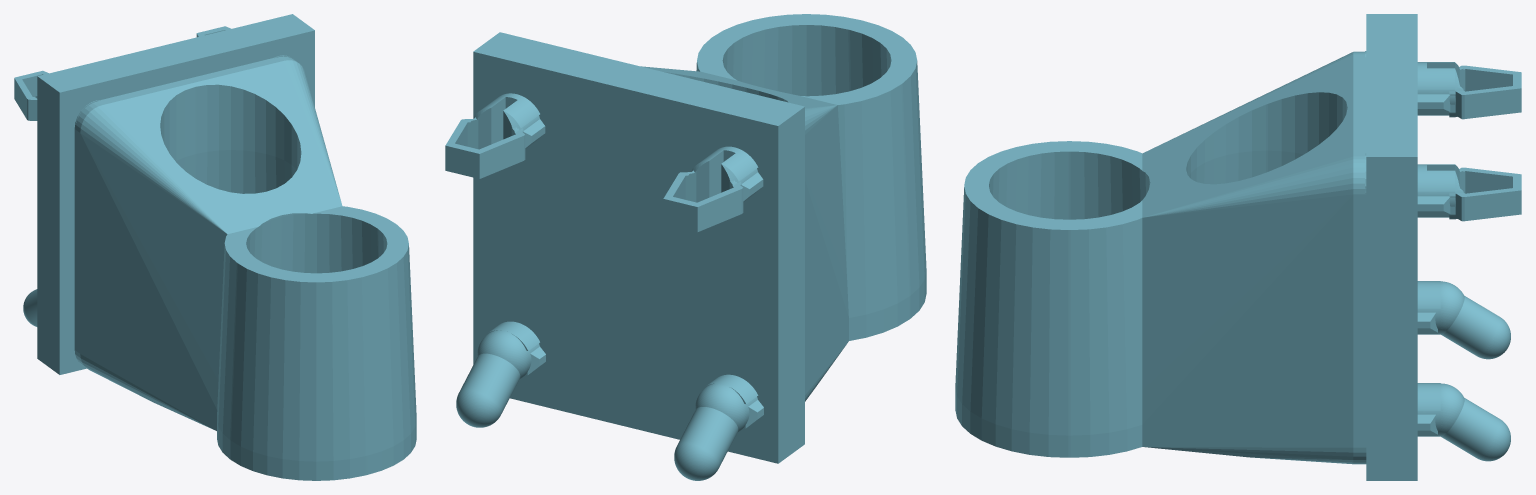
File: part-p05__current-mounts-flat-top-v2__fit-pf02c9-hoop5__print.glb
3 views of the same model, side by side, from view 1: azimuth 30°, elevation 25°; view 2: azimuth 150°, elevation 25°; view 3: azimuth 270°, elevation 25° (orthographic). The views are drawn at different scales.
Visible parts, largest first — view 1: print.stl; view 2: print.stl; view 3: print.stl.
Part boxes in pixels (box(x1,y1,x2,y2)): print.stl: box(14, 14, 416, 480); print.stl: box(445, 14, 926, 480); print.stl: box(955, 14, 1521, 480).
Bounding box in the file's own units: 0.0356 × 0.0376 × 0.0596.
